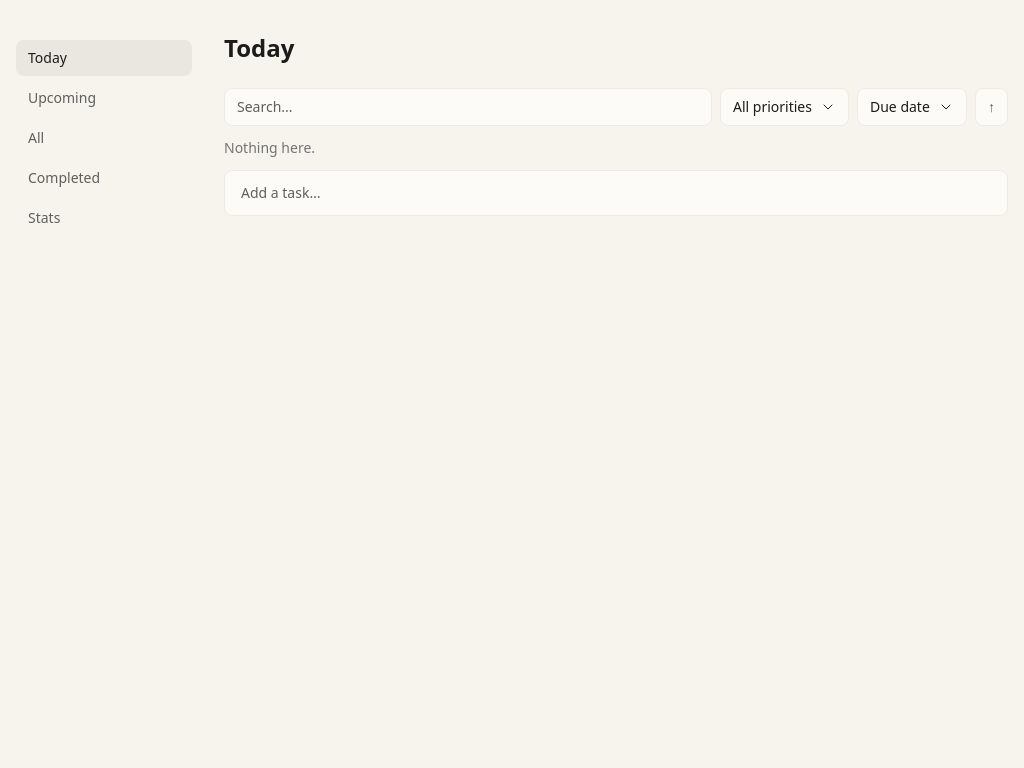
Test case: Undo/redo — toast and keyboard › shows undo toast after deleting a task
Click the button "All".
click(104, 138)  # box [16,120,192,156]
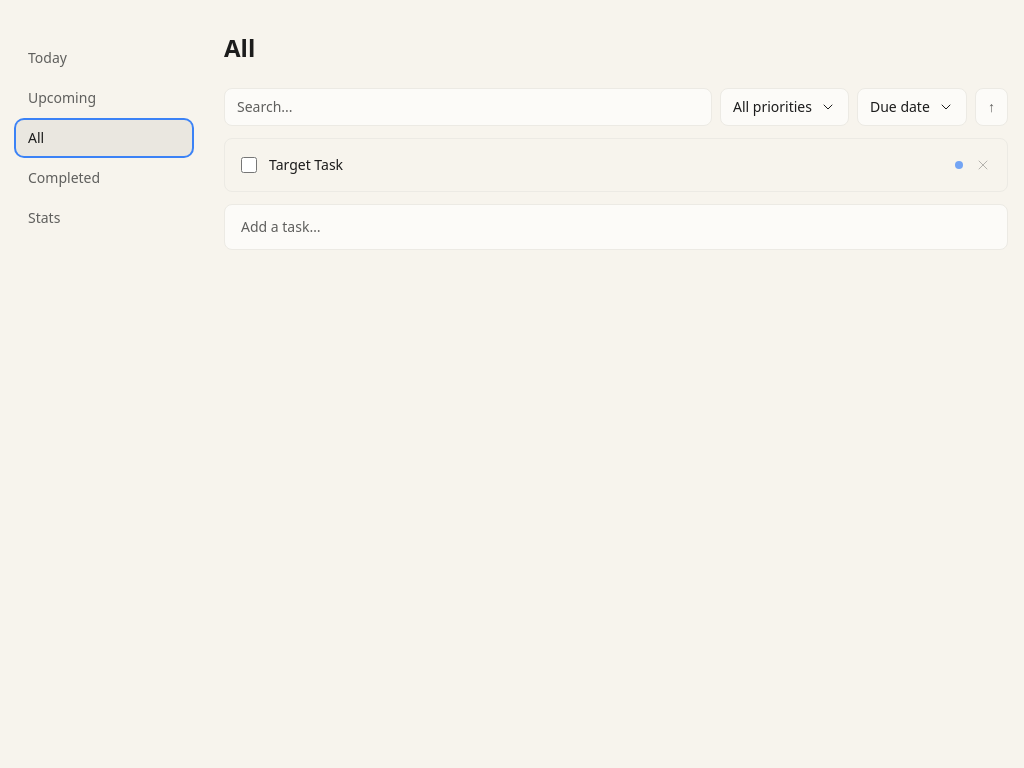
Click the button named "remove".
click(983, 165)  # box [975,157,991,173]
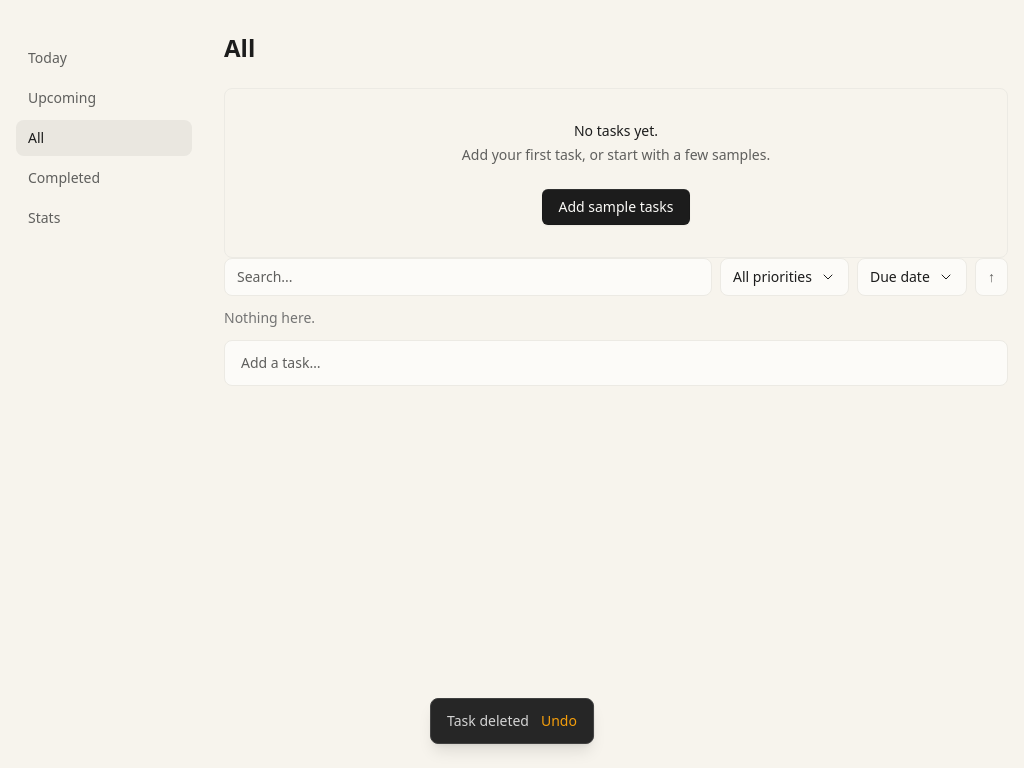
Expected: the message "Task deleted Undo" is shown, [430,698,594,744]
Expected: the text "Task deleted" is shown, [447,711,529,731]
